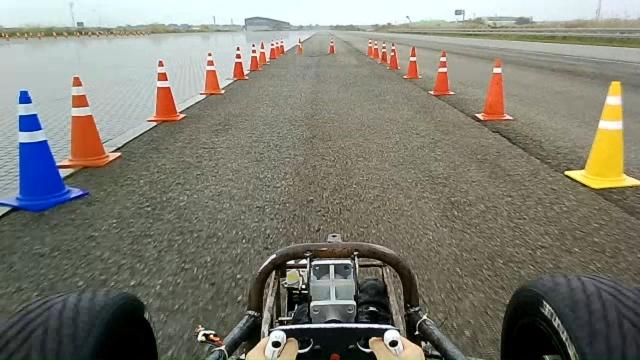blue cone: (0, 89, 89, 212)
red cone: (56, 74, 122, 168), (146, 59, 187, 122), (474, 58, 514, 121), (428, 50, 455, 96), (203, 47, 229, 91), (228, 46, 248, 80), (403, 45, 422, 79), (387, 42, 400, 70), (249, 42, 261, 71)
yellow cone: (564, 80, 639, 190)
